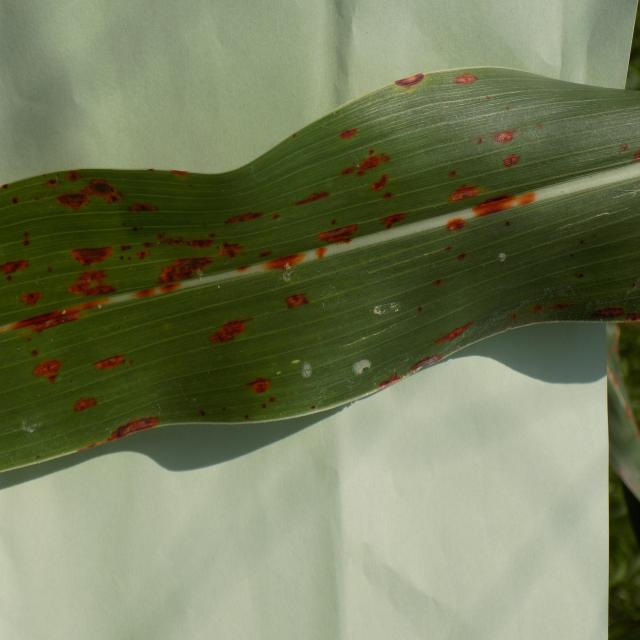millet_rust: (0, 63, 640, 481)
